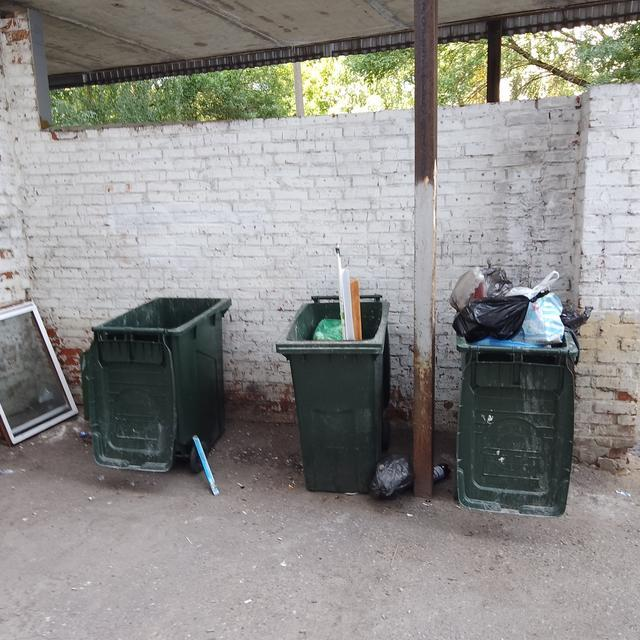Trash_Can_Empty: (90, 293, 232, 458)
Trash_Can_Full: (449, 257, 594, 517), (276, 254, 389, 492)
